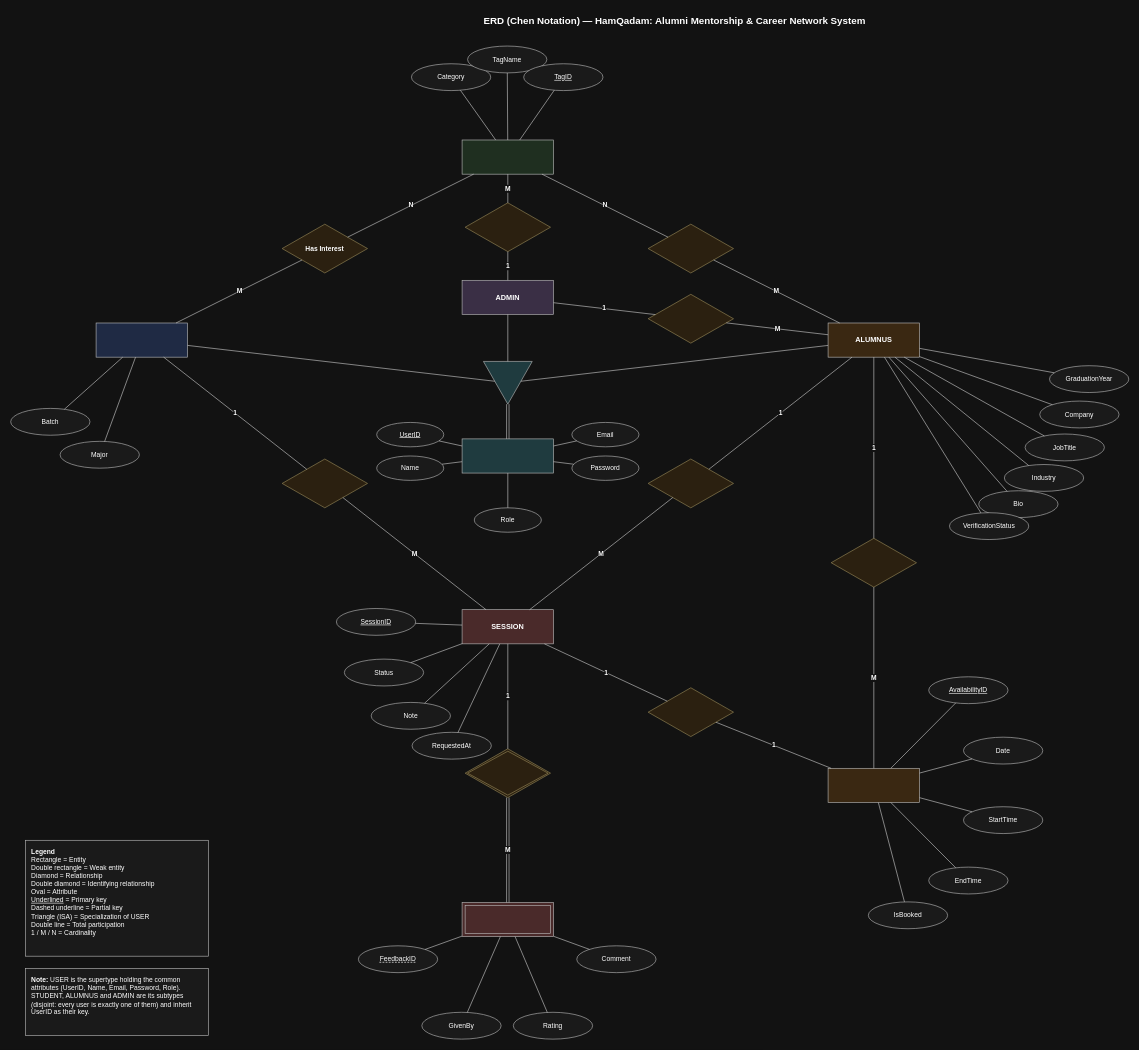
Some shapes in this 1139 by 1050 pixel diagram are drawn without their labels. The shapes that lost their labels are listed below. From the top down, each one's box as (x1, y1, x2, y2) in pixels, then its label:
(461, 139, 554, 174): TAG
(465, 202, 551, 252): Manages
(648, 224, 734, 273): Has Skill
(648, 294, 734, 343): Verifies
(95, 322, 188, 357): STUDENT
(483, 361, 532, 404): ISA
(461, 438, 554, 473): USER
(282, 458, 368, 508): Requests
(648, 458, 734, 508): Mentors
(831, 538, 917, 587): Offers
(648, 687, 734, 737): Books
(465, 748, 551, 798): Receives
(827, 768, 920, 802): AVAILABILITY
(461, 902, 554, 937): FEEDBACK
